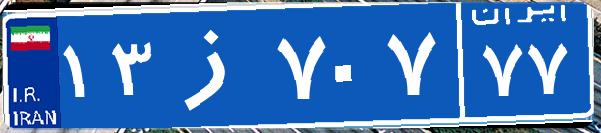0: (330, 28, 385, 110)
1: (57, 26, 110, 107)
3: (110, 28, 158, 105)
7: (385, 28, 445, 110), (273, 28, 330, 110), (475, 38, 525, 113), (525, 38, 570, 115)
ز: (158, 15, 273, 115)
